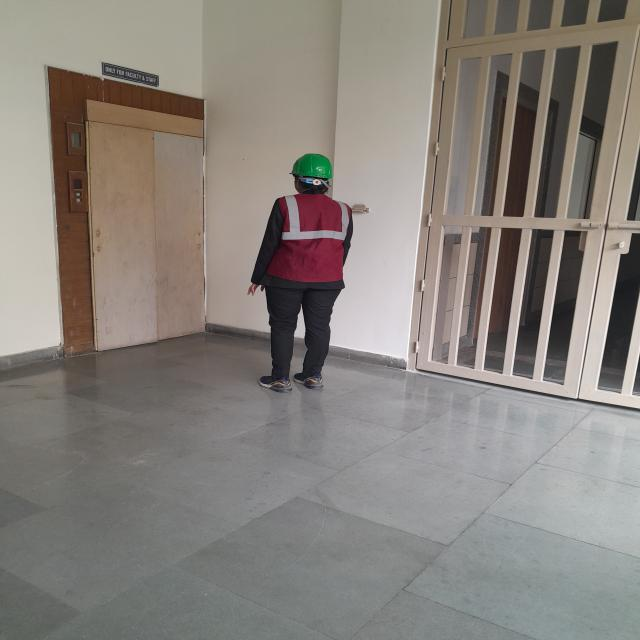safe: (259, 153, 353, 389)
